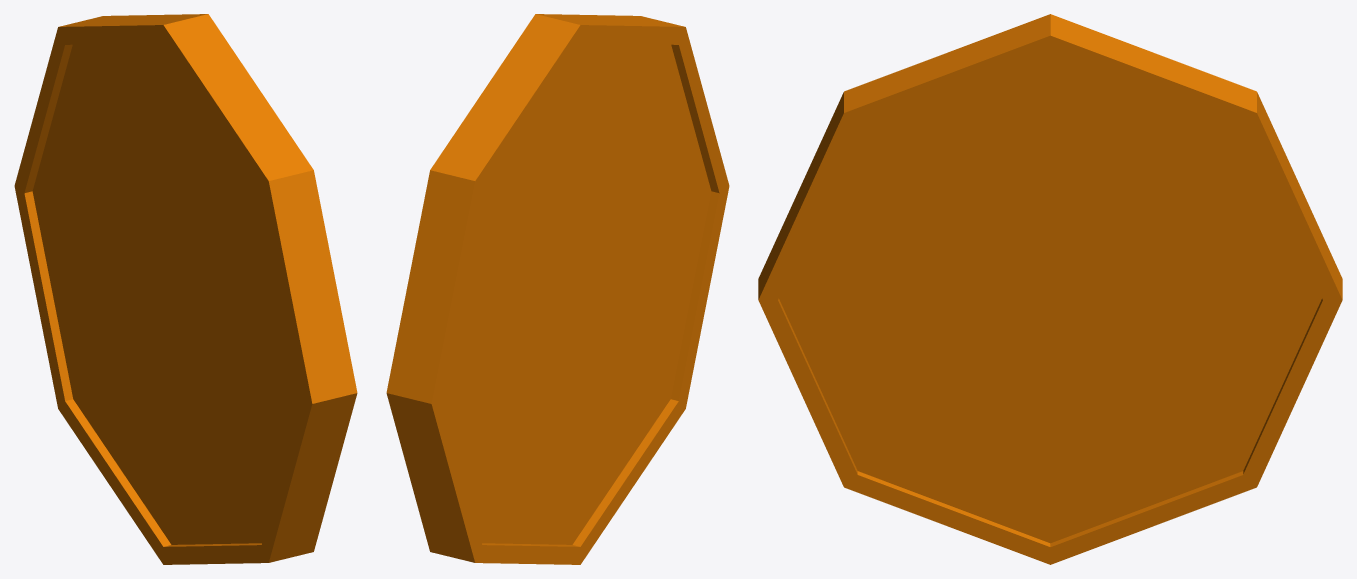
Rendered from Coin.glb.
The picture shows the model from 3 angles, left to right: view 1: azimuth 30°, elevation 25°; view 2: azimuth 150°, elevation 25°; view 3: azimuth 270°, elevation 25°; orthographic projection.
Parts seen in each view (by area): view 1: Cylinder.032; view 2: Cylinder.032; view 3: Cylinder.032.
Boxes of the visible parts, box(x1,y1,x2,y2) form: Cylinder.032: box(14, 14, 357, 564); Cylinder.032: box(386, 14, 729, 564); Cylinder.032: box(758, 14, 1342, 564).
Size of the model in its own units: 0.1499 by 1.71 by 1.71.
